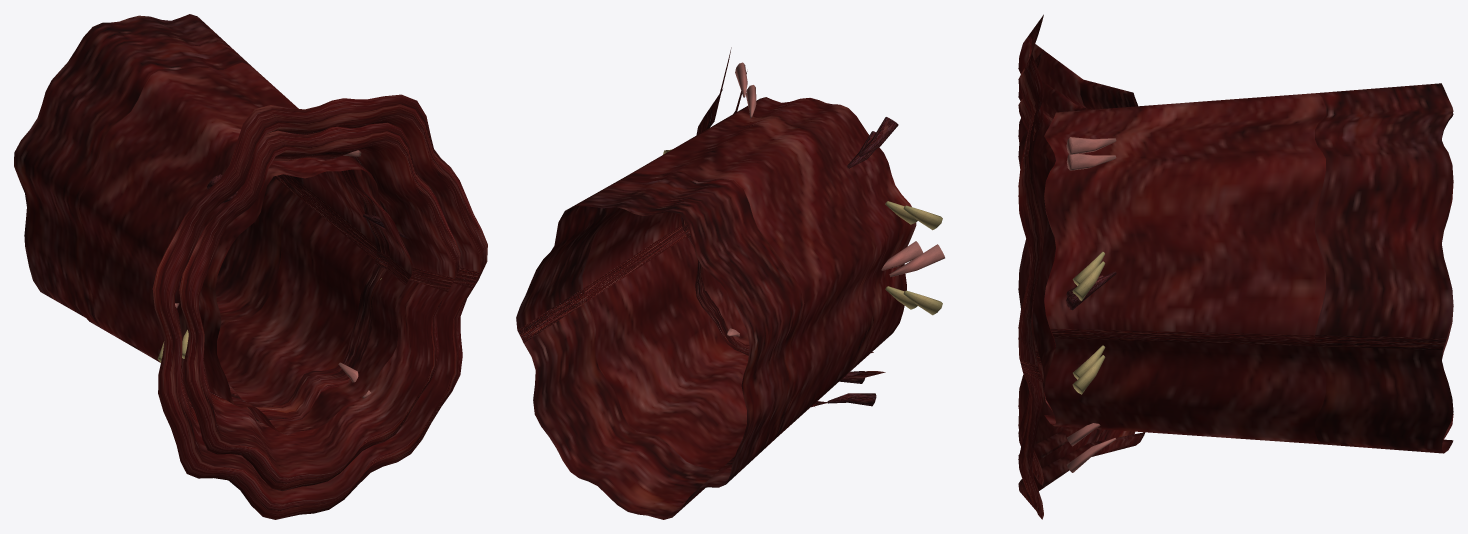
The model's file is body-spear-anatomy-v1.glb.
3 renders of one model, left to right at view 1: azimuth 30°, elevation 25°; view 2: azimuth 150°, elevation 25°; view 3: azimuth 270°, elevation 25°, orthographic. The views are drawn at different scales.
Visible parts, largest first — view 1: BodySpear_Tunnel, BodySpear_Entry, BodySpear_Exit; view 2: BodySpear_Tunnel, BodySpear_Exit, BodySpear_Entry; view 3: BodySpear_Tunnel, BodySpear_Exit, BodySpear_Entry.
Part boxes in pixels (left/top/right/bottom): BodySpear_Tunnel: left=14, top=14, right=412, bottom=435; BodySpear_Entry: left=179, top=122, right=460, bottom=491; BodySpear_Exit: left=152, top=94, right=487, bottom=519; BodySpear_Tunnel: left=516, top=97, right=916, bottom=519; BodySpear_Exit: left=663, top=47, right=944, bottom=407; BodySpear_Entry: left=681, top=71, right=923, bottom=383; BodySpear_Tunnel: left=1044, top=83, right=1453, bottom=453; BodySpear_Exit: left=1018, top=14, right=1145, bottom=519; BodySpear_Entry: left=1018, top=50, right=1116, bottom=485.
Size of the model in its own units: 0.2158 by 0.2574 by 0.2189.
Materials: 1 (1 with a texture image).
